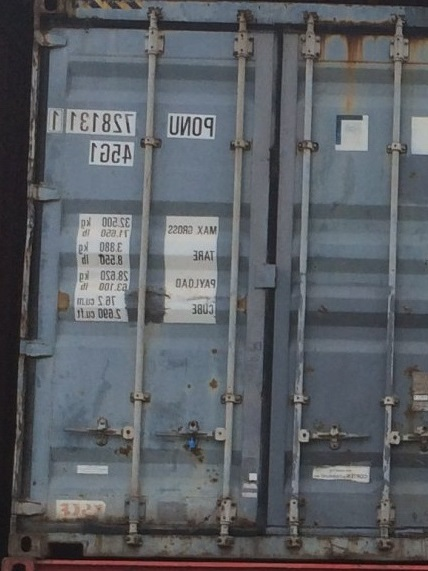container_door: (36, 7, 422, 561)
